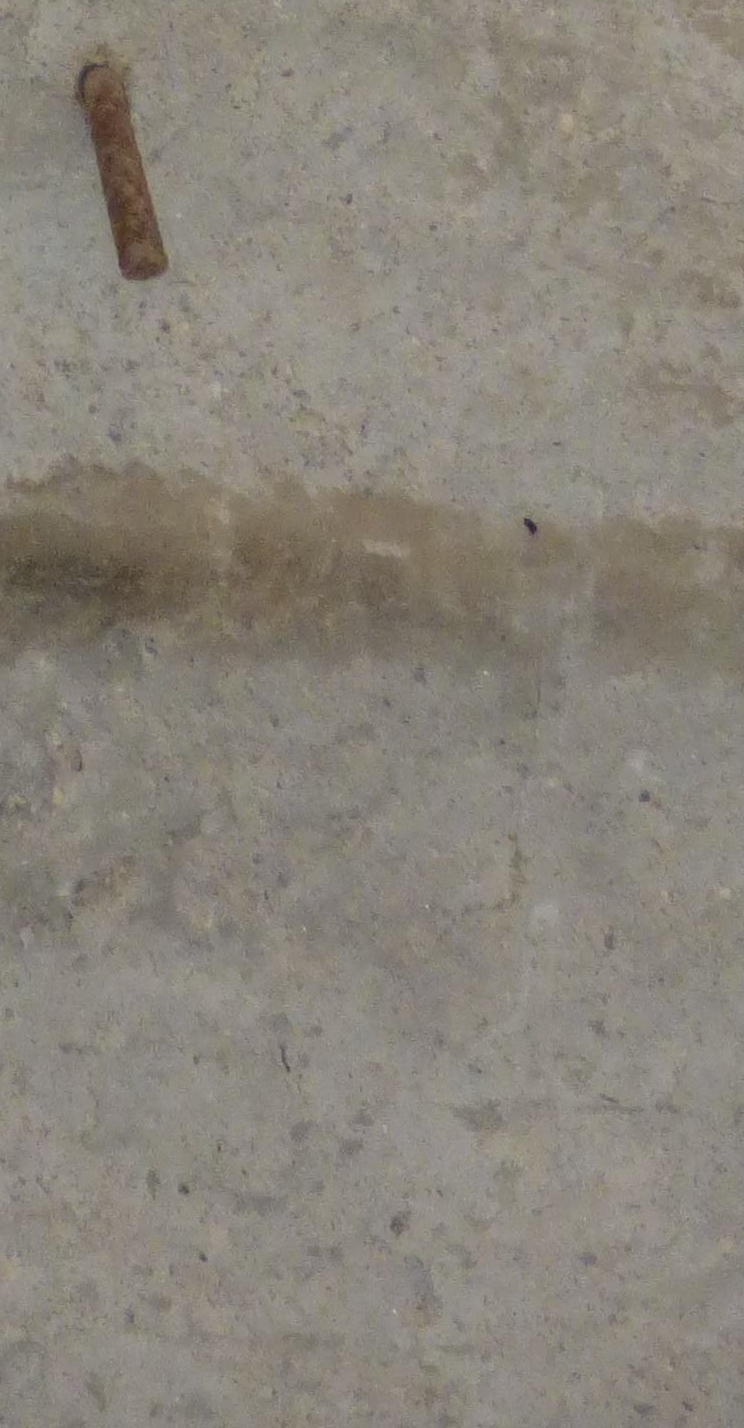Corrosion: (1, 454, 744, 697)
Exposed reinforcement: (83, 65, 169, 281)
